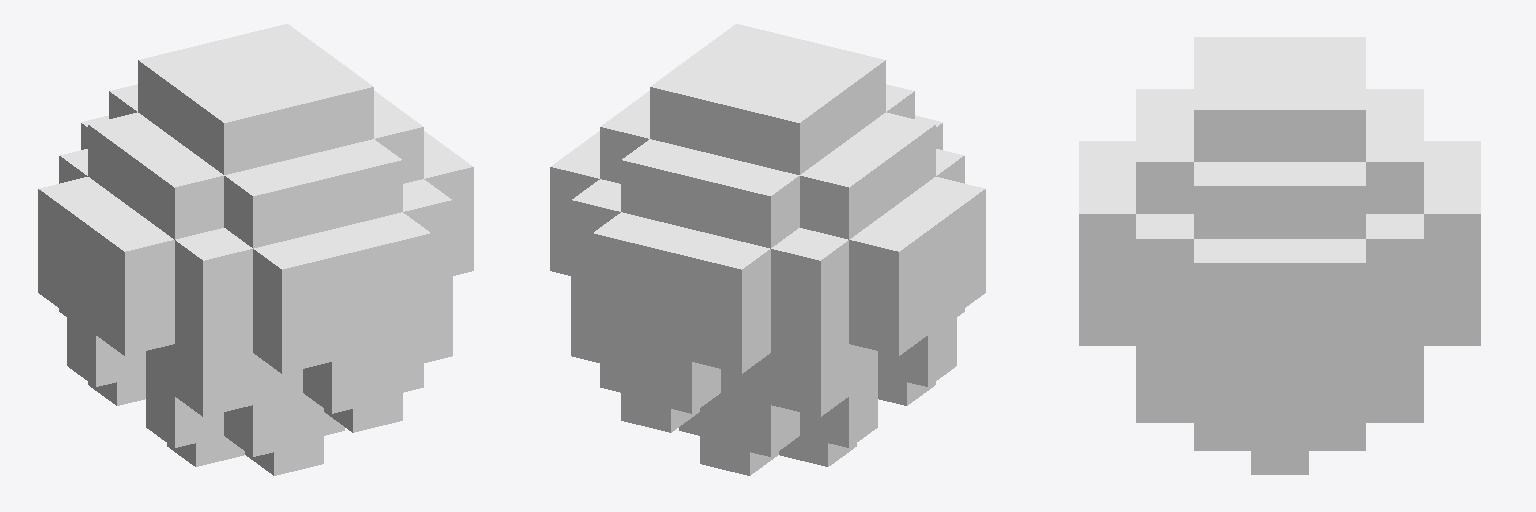
Rendered from HandVesselLeft.obj.
3 renders of one model, left to right at view 1: azimuth 30°, elevation 25°; view 2: azimuth 150°, elevation 25°; view 3: azimuth 270°, elevation 25°, orthographic.
Bounding box in the file's own units: 7 × 7 × 7.